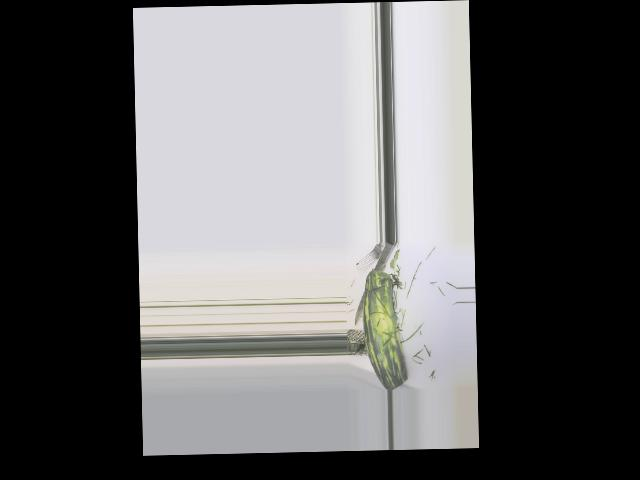cucumber: (362, 269, 408, 390)
